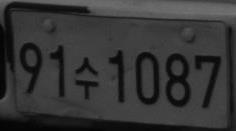0: (134, 51, 160, 105)
1: (105, 49, 132, 103), (46, 44, 71, 97)
7: (193, 53, 222, 108)
8: (164, 52, 192, 107)
9: (19, 41, 43, 94)
수: (75, 57, 99, 99)
